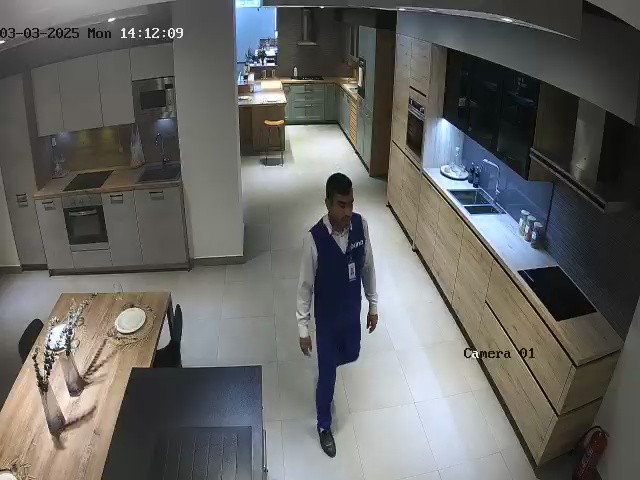employee: (295, 172, 379, 458)
